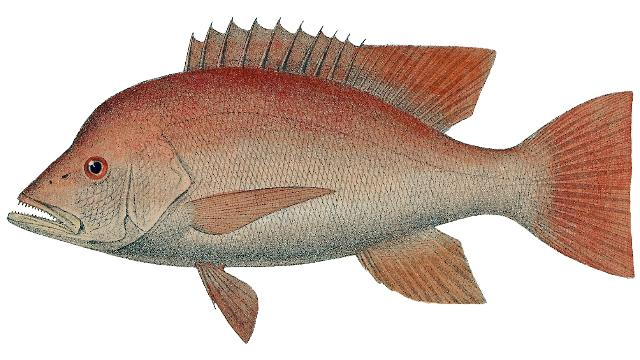Mulut: (4, 180, 74, 244)
Sirip Anal: (356, 220, 490, 314)
Sirip Dada: (186, 177, 340, 237)
Sirip Ekor: (524, 83, 638, 287)
Sirip Perut: (197, 256, 270, 348)
Sirip Punggung: (179, 12, 499, 136)
